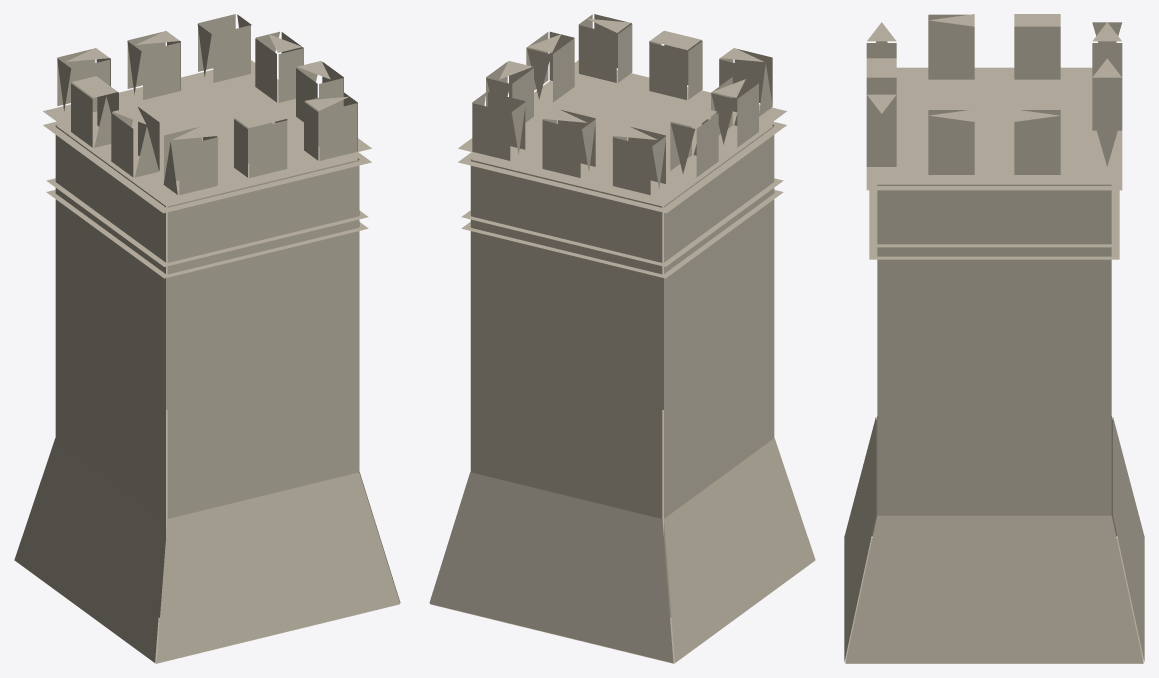
The model's file is castle-wall-corner-lod1.glb.
The picture shows the model from 3 angles, left to right: view 1: azimuth 30°, elevation 25°; view 2: azimuth 150°, elevation 25°; view 3: azimuth 270°, elevation 25°; orthographic projection. The views are drawn at different scales.
Parts seen in each view (by area): view 1: castle-wall-corner; view 2: castle-wall-corner; view 3: castle-wall-corner.
Boxes of the visible parts, box(x1,y1,x2,y2) form: castle-wall-corner: box(14, 14, 400, 663); castle-wall-corner: box(429, 14, 815, 663); castle-wall-corner: box(844, 14, 1144, 663).
Size of the model in its own units: 5.59 by 10.95 by 5.59.
